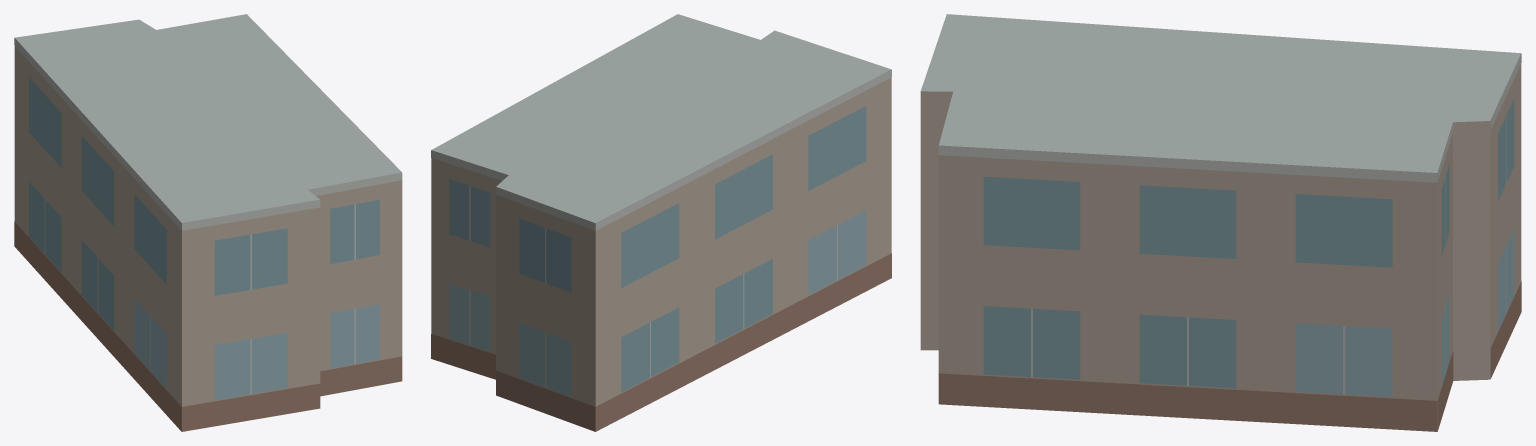
The model's file is survey-upis-32972287.glb.
The picture shows the model from 3 angles, left to right: view 1: azimuth 30°, elevation 25°; view 2: azimuth 150°, elevation 25°; view 3: azimuth 270°, elevation 25°; orthographic projection. The views are drawn at different scales.
Parts seen in each view (by area): view 1: survey-upis-32972287.tmp; view 2: survey-upis-32972287.tmp; view 3: survey-upis-32972287.tmp.
Boxes of the visible parts, <box> form: survey-upis-32972287.tmp: <box>14,14,402,431</box>; survey-upis-32972287.tmp: <box>431,14,891,431</box>; survey-upis-32972287.tmp: <box>920,14,1521,431</box>.
Size of the model in its own units: 8.58 by 6.5 by 13.69.
